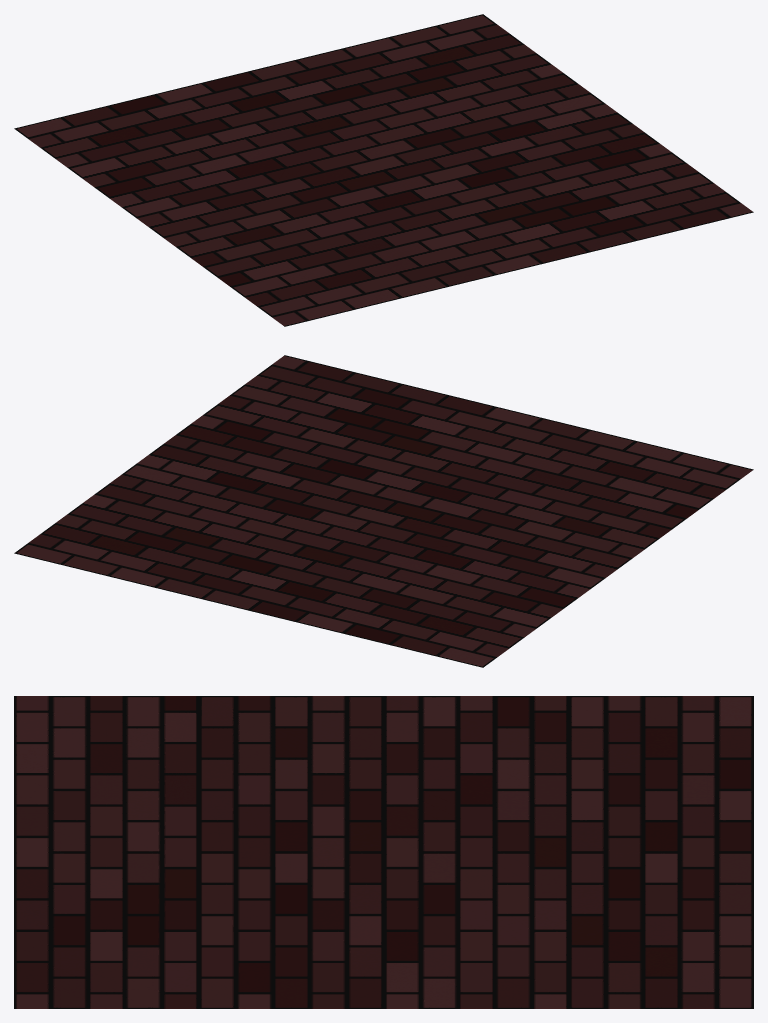
Rendered from coast.gltf.
3 views of the same model, one above another, from view 1: azimuth 30°, elevation 25°; view 2: azimuth 150°, elevation 25°; view 3: azimuth 270°, elevation 25° (orthographic). The views are drawn at different scales.
Parts seen in each view (by area): view 1: 平面; view 2: 平面; view 3: 平面.
Part boxes in pixels (left/top/right/bottom): 平面: left=14, top=14, right=753, bottom=326; 平面: left=14, top=355, right=753, bottom=667; 平面: left=14, top=696, right=753, bottom=1008.
Bounding box in the file's own units: 200 × 0 × 200.
1 material, 1 textured.
